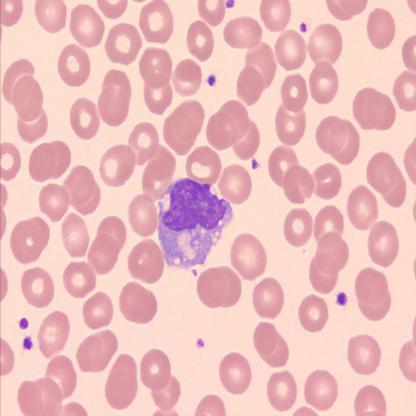Monocyte: (154, 175, 233, 271)
